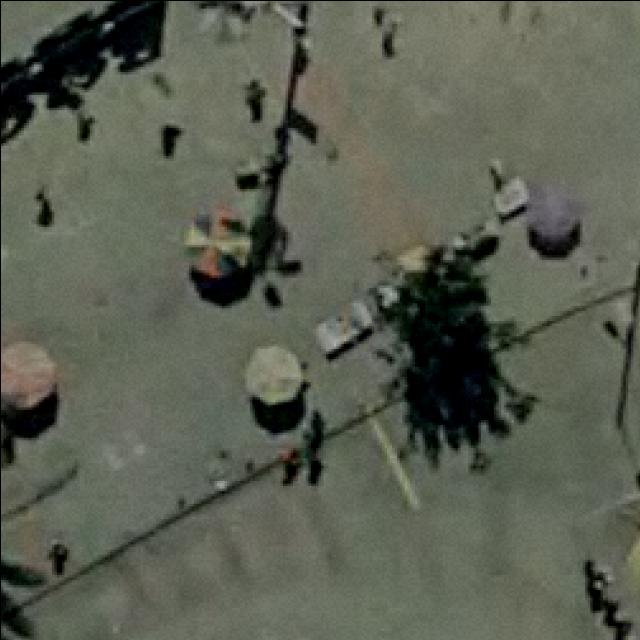vendedor_ambulante: (176, 202, 257, 282), (0, 335, 61, 419), (242, 342, 307, 408), (520, 180, 584, 242)
